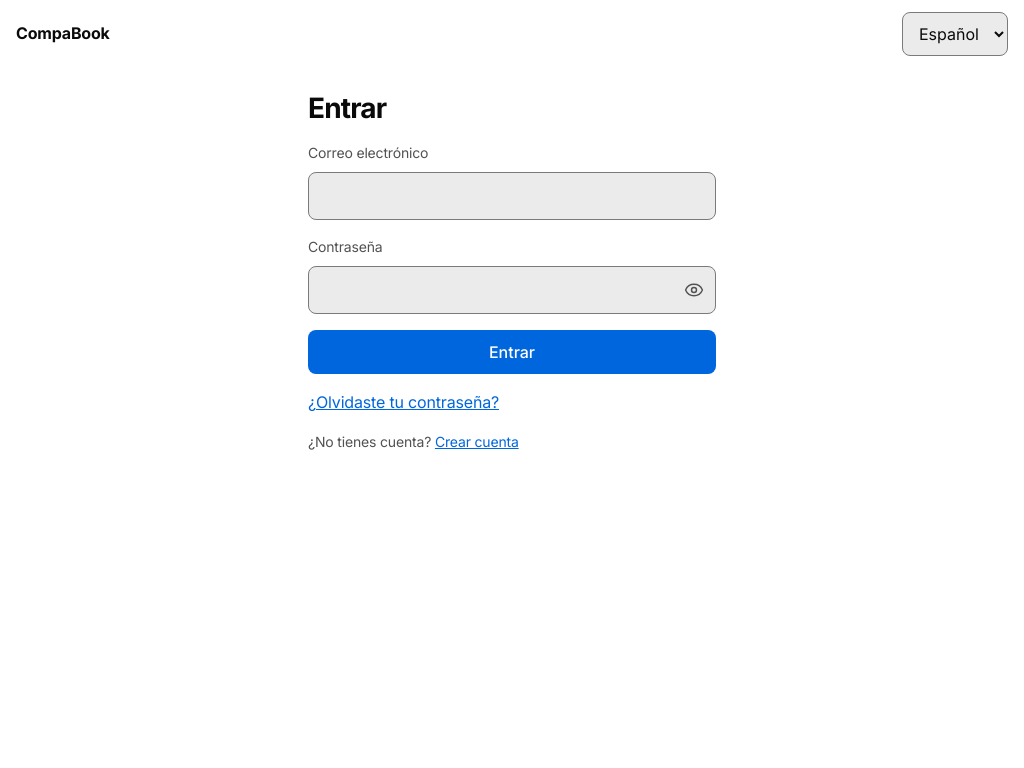
Scenario: login › cuenta sin verificar: ofrece ir a verificar
Type "ana@example.com" into the field labelled "Correo electrónico" at (512, 196), box [308,172,716,220]
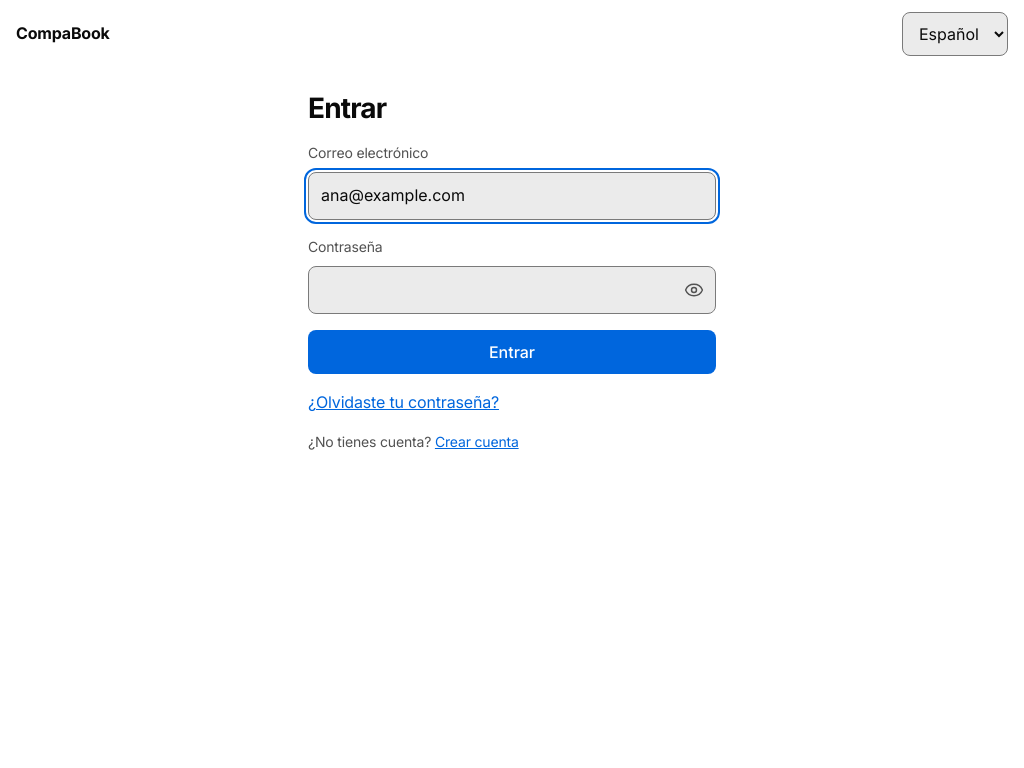
Type "caballo-grapa-azul" into the password field labelled "Contraseña" at (512, 290), box [308,266,716,314]
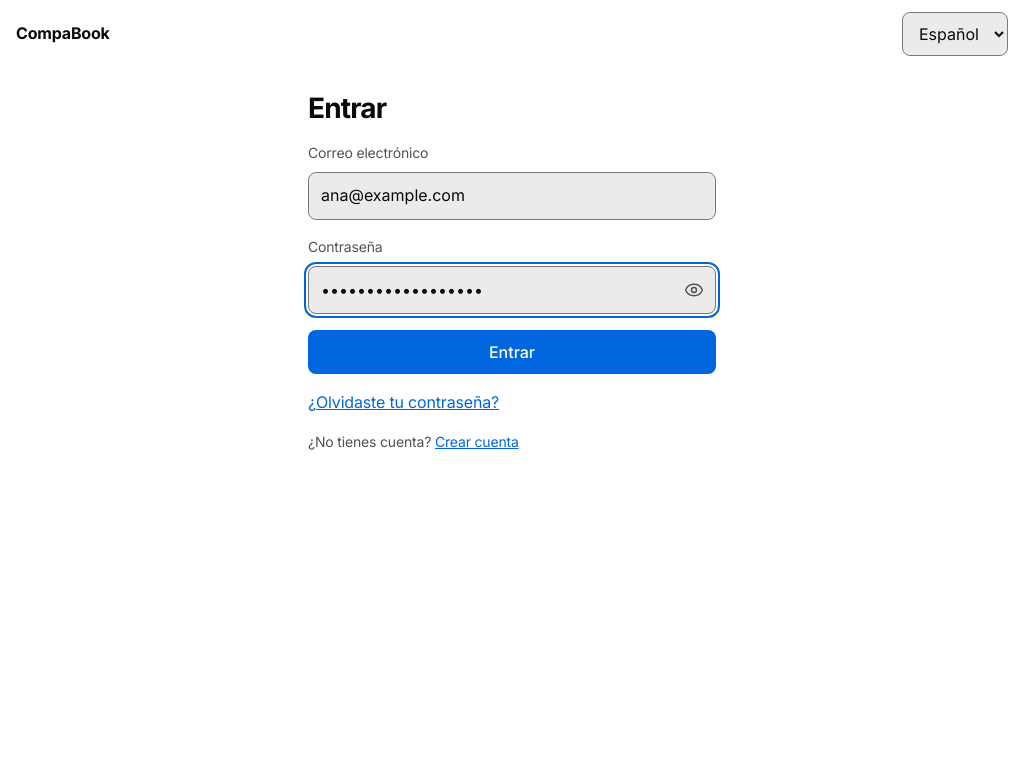
Click the button "Entrar" at (512, 352), box [308,330,716,374]
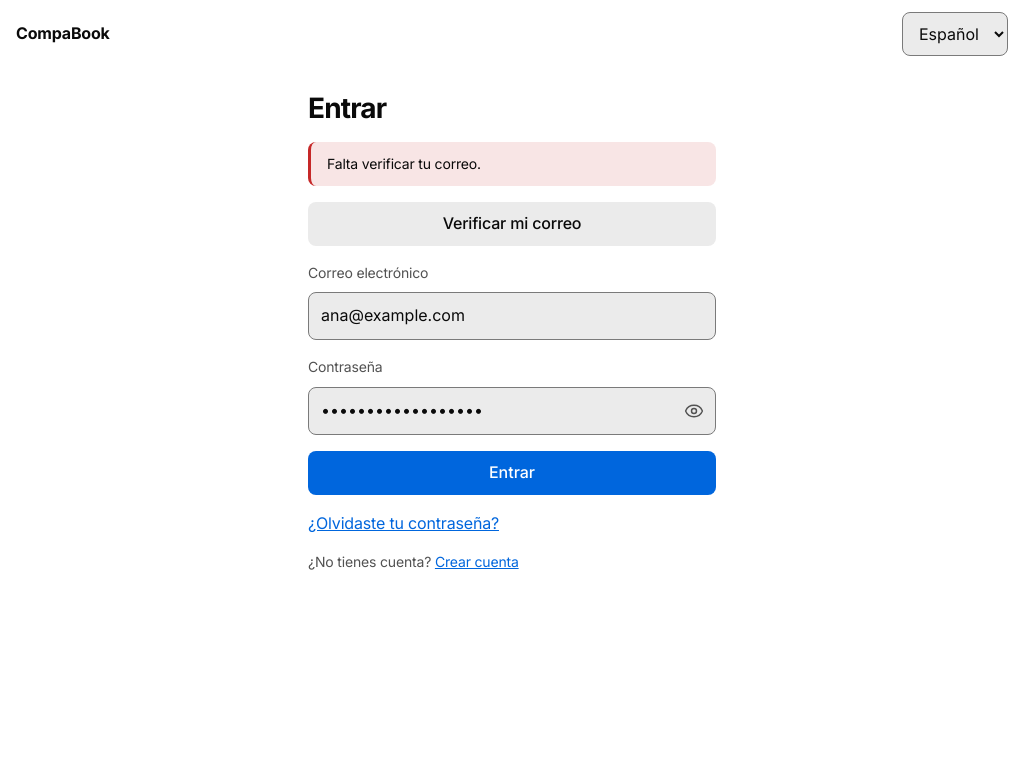
Now the message reads "Falta verificar tu correo.", box [327,155,481,172]
